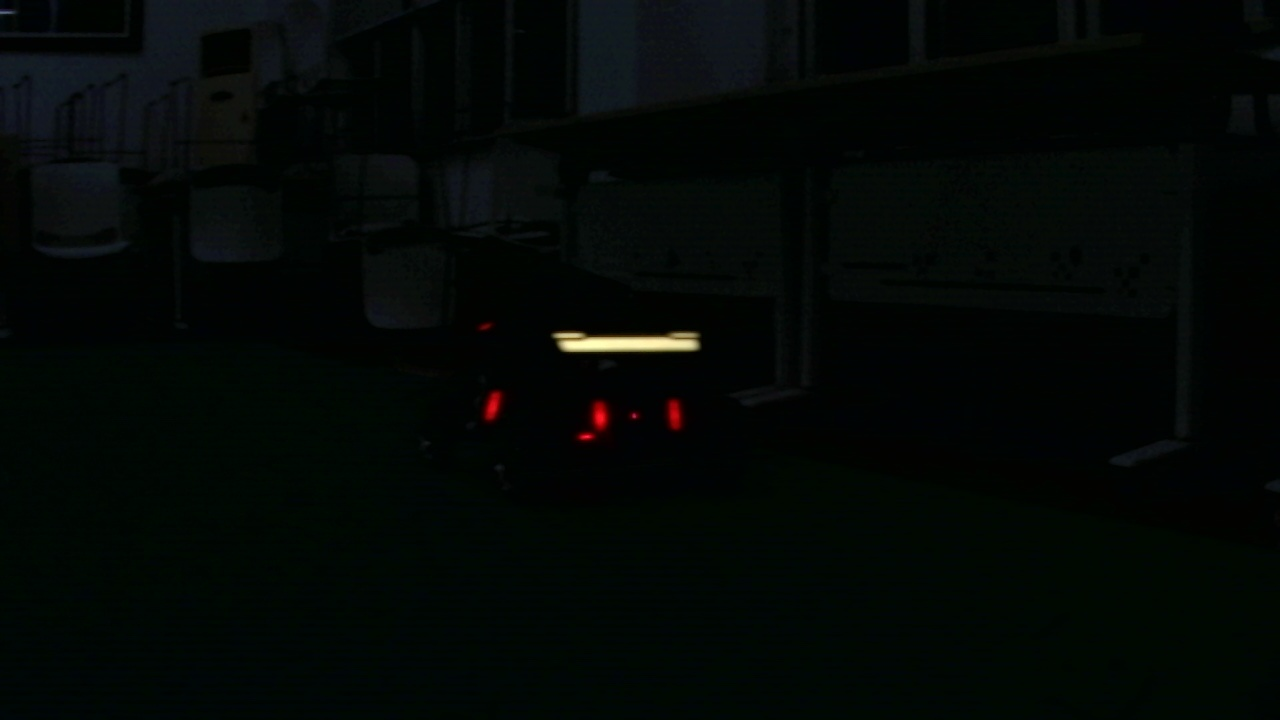lamp: (482, 387, 501, 427), (590, 402, 610, 432), (666, 403, 683, 429)
pair1: (590, 398, 679, 428)
